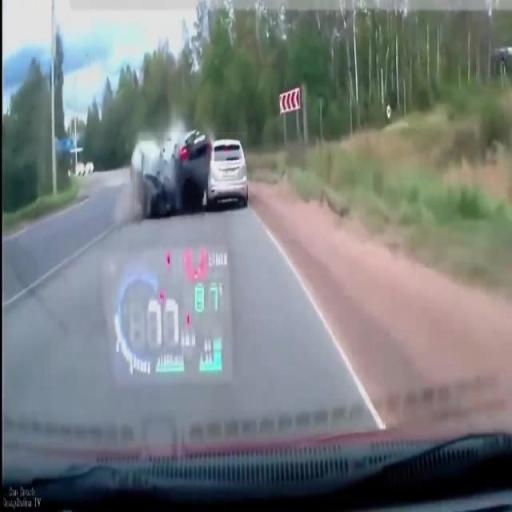小汽车撞小汽车: (135, 132, 247, 214)
